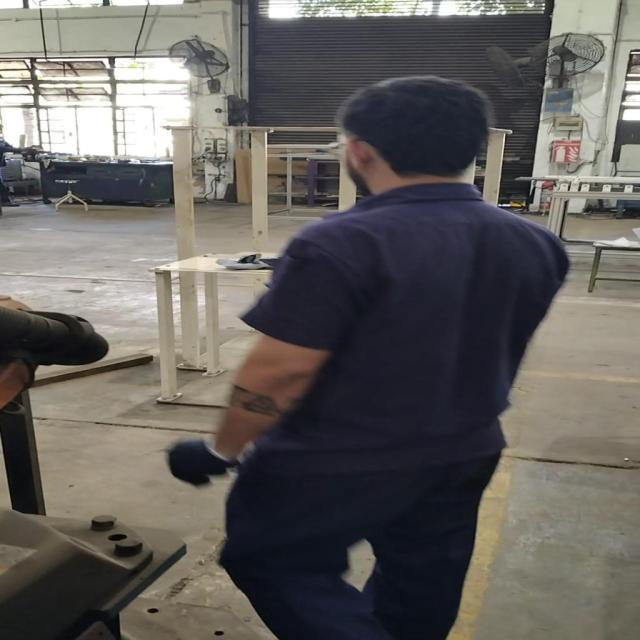Gloves-Detection: (162, 428, 228, 485)
